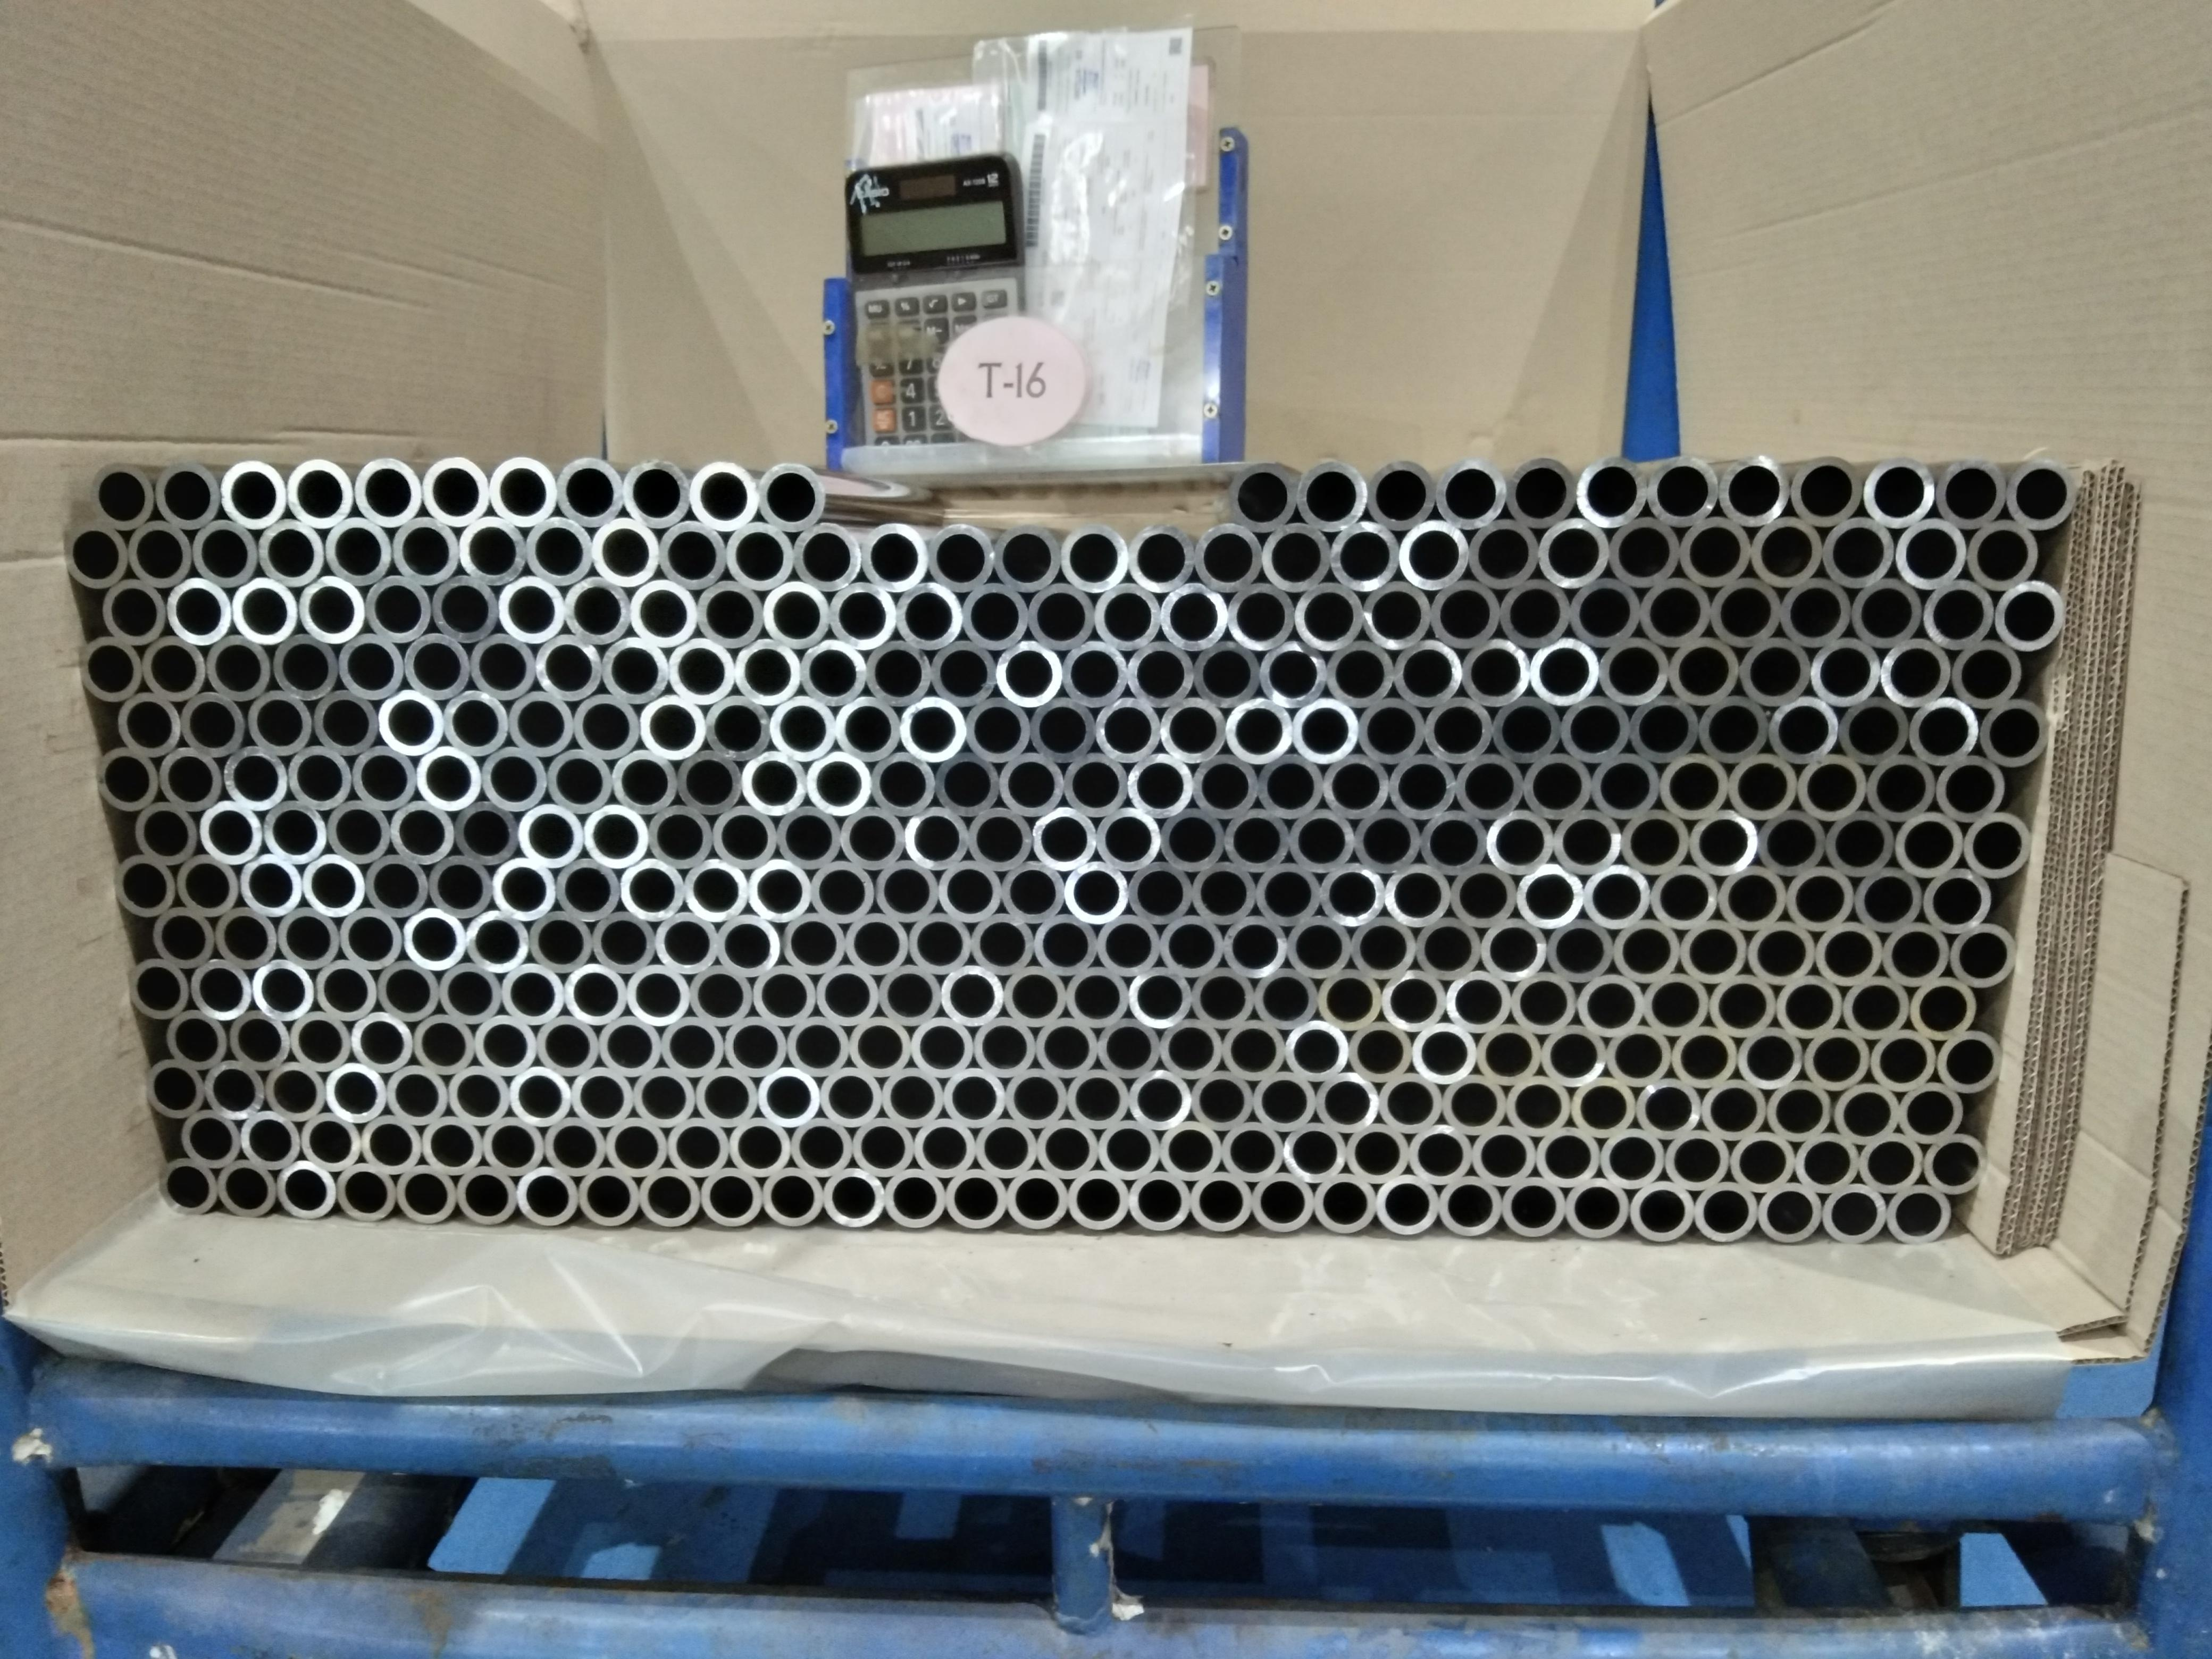pipe: (1749, 514, 1824, 591), (1820, 514, 1895, 591), (1860, 453, 1935, 530), (1893, 514, 1966, 592), (1965, 514, 2038, 592), (1848, 575, 1923, 650), (1921, 577, 1996, 652), (1787, 453, 1862, 528), (1933, 455, 2006, 532), (1608, 514, 1681, 589), (1677, 514, 1750, 589), (1637, 575, 1710, 650), (1498, 575, 1571, 650), (1568, 575, 1641, 650), (1778, 575, 1851, 650), (1503, 455, 1576, 530), (1364, 457, 1437, 532), (1329, 519, 1402, 592), (1709, 575, 1782, 648), (1597, 634, 1670, 708), (1667, 634, 1740, 708), (1738, 634, 1811, 708), (1879, 636, 1952, 709), (1949, 638, 2022, 711), (1646, 455, 1719, 528), (1716, 455, 1789, 528), (1467, 516, 1538, 591), (1538, 518, 1613, 589), (657, 518, 728, 592), (991, 519, 1062, 594), (1430, 577, 1501, 652), (1576, 455, 1648, 530), (2006, 455, 2078, 530), (1294, 458, 1366, 533), (1399, 516, 1468, 592), (1993, 577, 2062, 653), (1228, 457, 1298, 533), (1360, 579, 1432, 652), (1292, 579, 1364, 652), (1529, 634, 1601, 708), (1460, 636, 1531, 709), (1435, 457, 1507, 530), (1261, 519, 1331, 594), (219, 455, 287, 532), (87, 458, 155, 535), (1423, 694, 1494, 765), (1838, 694, 1909, 765), (725, 519, 794, 592), (792, 519, 862, 592), (1193, 519, 1263, 592), (1127, 521, 1197, 594), (1226, 579, 1296, 652), (1810, 634, 1879, 708), (354, 455, 423, 528), (488, 455, 557, 528), (756, 460, 826, 533), (590, 514, 658, 589), (421, 453, 489, 528), (556, 455, 624, 530), (230, 575, 300, 647), (827, 580, 897, 652), (894, 580, 963, 652), (1158, 580, 1228, 652), (667, 634, 737, 706), (1191, 638, 1261, 709), (1324, 638, 1393, 709), (1698, 694, 1768, 765), (1766, 695, 1838, 765), (1658, 749, 1728, 821), (1935, 753, 2005, 824), (1717, 863, 1787, 934), (1921, 868, 1993, 938), (460, 514, 528, 587), (526, 514, 594, 587), (324, 514, 392, 587), (258, 516, 326, 589), (192, 516, 260, 589), (1059, 521, 1127, 594), (430, 572, 498, 645), (364, 572, 432, 645), (1979, 695, 2047, 769), (622, 457, 690, 530), (695, 579, 765, 648), (533, 633, 603, 702), (864, 638, 934, 708), (704, 694, 773, 763), (1491, 694, 1561, 763), (1561, 694, 1630, 763), (1629, 694, 1698, 763), (1909, 697, 1979, 767), (1590, 751, 1660, 821), (1728, 751, 1797, 821), (1454, 751, 1524, 821), (1620, 807, 1689, 877), (1893, 810, 1963, 880), (1961, 810, 2031, 880), (1785, 864, 1855, 934), (1879, 920, 1949, 990), (1949, 922, 2019, 992), (394, 516, 462, 587), (927, 521, 995, 592), (498, 573, 566, 645), (563, 575, 631, 647), (101, 575, 169, 647), (629, 577, 697, 648), (960, 580, 1028, 652), (1094, 580, 1162, 652), (402, 629, 470, 701), (733, 636, 801, 708), (995, 638, 1062, 709), (1061, 638, 1129, 709), (441, 687, 509, 758), (179, 688, 247, 760), (1524, 749, 1592, 821), (1796, 753, 1867, 821), (1867, 751, 1935, 823), (1756, 809, 1827, 877), (153, 460, 221, 532), (690, 460, 758, 532), (860, 521, 927, 594), (204, 633, 272, 702), (601, 636, 669, 706), (1393, 638, 1461, 708), (312, 688, 380, 758), (571, 690, 639, 760), (768, 694, 838, 762), (1388, 751, 1456, 821), (646, 803, 716, 871), (1486, 807, 1554, 877), (1689, 807, 1757, 877), (1552, 809, 1622, 877), (1825, 809, 1893, 878), (1677, 917, 1747, 985), (127, 518, 193, 589), (298, 573, 364, 645), (763, 579, 829, 650), (1028, 580, 1094, 652), (272, 631, 338, 702), (799, 636, 866, 708), (1127, 638, 1193, 709), (1259, 640, 1325, 711), (287, 457, 354, 528), (1029, 695, 1097, 763), (1357, 695, 1425, 763), (610, 748, 678, 816), (1515, 863, 1583, 931), (1649, 863, 1717, 931), (1853, 866, 1921, 934), (1747, 918, 1815, 986), (139, 633, 206, 702), (930, 638, 996, 708), (507, 688, 573, 758), (834, 694, 900, 763), (219, 744, 289, 810), (545, 746, 611, 816), (1258, 751, 1324, 821), (132, 798, 199, 868), (517, 800, 583, 870), (1353, 807, 1420, 877), (1420, 809, 1489, 875), (1285, 915, 1355, 981), (1813, 920, 1883, 986), (1709, 972, 1778, 1039), (1911, 974, 1977, 1044), (1803, 1026, 1872, 1093), (338, 633, 404, 701), (470, 633, 536, 701), (637, 694, 705, 760), (900, 695, 967, 763), (1160, 695, 1226, 763), (1291, 695, 1357, 763), (416, 744, 482, 812), (481, 746, 547, 814), (805, 749, 871, 817), (869, 749, 935, 817), (934, 749, 1000, 817), (1062, 751, 1129, 819), (1127, 751, 1193, 819), (1191, 751, 1258, 819), (1324, 751, 1390, 819), (261, 798, 327, 866), (388, 798, 455, 866), (1223, 807, 1291, 873), (1254, 859, 1320, 927), (1449, 863, 1517, 929), (1383, 863, 1451, 929), (1585, 863, 1651, 931), (1547, 917, 1615, 983), (1613, 917, 1679, 985), (1379, 967, 1447, 1033), (1576, 971, 1644, 1037), (1843, 974, 1911, 1040), (1737, 1025, 1804, 1091), (1869, 1028, 1937, 1094), (1766, 1077, 1834, 1143), (1501, 1173, 1568, 1241), (167, 575, 232, 645), (378, 688, 442, 758), (1127, 857, 1191, 927), (1413, 917, 1482, 981), (80, 633, 143, 704), (63, 521, 129, 587), (963, 695, 1029, 762), (1094, 697, 1160, 763), (1226, 697, 1292, 763), (676, 749, 742, 816), (740, 749, 806, 816), (998, 751, 1064, 817), (582, 803, 648, 870), (904, 805, 970, 871), (1031, 805, 1097, 871), (300, 852, 366, 918), (362, 852, 428, 918), (427, 854, 493, 920), (554, 856, 620, 922), (1318, 861, 1385, 927), (212, 904, 279, 971), (401, 906, 467, 972), (528, 908, 594, 974), (780, 911, 846, 978), (188, 957, 254, 1023), (127, 958, 193, 1025), (686, 962, 752, 1028), (1252, 965, 1318, 1032), (1777, 974, 1843, 1040), (909, 1012, 975, 1079), (1937, 1030, 2003, 1096), (1313, 1171, 1379, 1237), (1693, 1178, 1759, 1244), (1756, 1180, 1822, 1246), (1886, 1182, 1952, 1248), (247, 688, 312, 756), (287, 744, 352, 812), (352, 744, 416, 812), (199, 798, 263, 866), (326, 798, 390, 866), (455, 800, 519, 868), (237, 850, 301, 918), (491, 854, 556, 922), (620, 856, 685, 924), (1000, 857, 1064, 925), (1191, 859, 1256, 927), (1317, 965, 1381, 1033), (1444, 969, 1512, 1033), (1508, 971, 1576, 1035), (1670, 1026, 1740, 1089), (1568, 1077, 1637, 1140), (158, 746, 223, 812), (840, 805, 906, 870), (1160, 807, 1224, 873), (1289, 807, 1353, 873), (747, 857, 812, 924), (874, 857, 939, 924), (937, 857, 1001, 924), (810, 857, 874, 924), (152, 904, 216, 971), (338, 904, 402, 971), (590, 910, 655, 976), (716, 911, 780, 978), (1033, 911, 1097, 978), (1480, 917, 1547, 981), (312, 958, 376, 1025), (251, 958, 315, 1025), (625, 962, 690, 1028), (815, 962, 880, 1028), (1127, 965, 1193, 1030), (1642, 972, 1709, 1037), (535, 1012, 599, 1079), (1033, 1014, 1099, 1079), (1346, 1019, 1413, 1084), (1606, 1025, 1672, 1089), (1834, 1080, 1898, 1147), (1374, 1171, 1439, 1237), (1437, 1173, 1501, 1239), (1564, 1176, 1629, 1243), (1630, 1180, 1695, 1246), (1822, 1182, 1886, 1248), (376, 957, 439, 1025), (502, 960, 564, 1028), (1540, 1025, 1608, 1087), (1700, 1079, 1770, 1140), (98, 748, 162, 812), (712, 805, 777, 870), (968, 807, 1033, 871), (1096, 807, 1160, 871), (174, 852, 239, 917), (683, 857, 747, 922), (1064, 859, 1129, 924), (275, 906, 340, 971), (907, 911, 972, 976), (1350, 915, 1414, 979), (752, 964, 817, 1028), (1001, 964, 1066, 1028), (1190, 965, 1254, 1030), (411, 1011, 475, 1075), (474, 1011, 538, 1075), (1284, 1019, 1348, 1084), (1475, 1023, 1540, 1087), (1190, 1068, 1254, 1133), (517, 1164, 582, 1229), (881, 1166, 946, 1230), (465, 908, 528, 974), (655, 910, 718, 976), (970, 911, 1033, 978), (878, 962, 941, 1028), (597, 1016, 664, 1079), (1158, 1018, 1224, 1080), (324, 1060, 387, 1126), (385, 1060, 448, 1126), (570, 1065, 636, 1127), (1634, 1077, 1700, 1140), (298, 1110, 361, 1176), (913, 1114, 975, 1180), (974, 1114, 1036, 1180), (1097, 1115, 1160, 1182), (1219, 1119, 1282, 1185), (1284, 1121, 1346, 1187), (1346, 1121, 1409, 1187), (1665, 1127, 1728, 1194), (1731, 1127, 1794, 1194), (1797, 1127, 1860, 1194), (1923, 1129, 1986, 1195), (779, 805, 841, 870), (115, 854, 178, 918), (845, 911, 907, 976), (1097, 913, 1160, 978), (1160, 915, 1224, 978), (941, 964, 1003, 1028), (1064, 965, 1129, 1028), (660, 1014, 725, 1077), (723, 1014, 787, 1077), (848, 1014, 913, 1077), (141, 1056, 204, 1121), (204, 1056, 266, 1121), (263, 1058, 326, 1122), (446, 1065, 510, 1127), (632, 1065, 697, 1127), (695, 1065, 759, 1127), (881, 1065, 944, 1129), (1003, 1066, 1068, 1129), (1252, 1070, 1317, 1133), (1317, 1070, 1379, 1134), (1378, 1072, 1442, 1134), (1900, 1079, 1963, 1143), (179, 1107, 242, 1171), (237, 1107, 300, 1171), (420, 1114, 482, 1178), (543, 1114, 606, 1178), (728, 1114, 791, 1178), (482, 1114, 545, 1178), (606, 1115, 669, 1180), (667, 1115, 730, 1180), (791, 1115, 853, 1180), (852, 1115, 914, 1180), (1160, 1117, 1223, 1182), (1409, 1122, 1472, 1187), (1474, 1122, 1536, 1187), (1534, 1126, 1597, 1190), (1860, 1131, 1923, 1195), (761, 1162, 824, 1227), (578, 1162, 641, 1227), (455, 1162, 517, 1227), (395, 1164, 458, 1229), (822, 1164, 885, 1229), (698, 1166, 763, 1229), (944, 1166, 1008, 1229), (637, 1166, 700, 1230), (1007, 1168, 1069, 1232), (1066, 1168, 1129, 1232), (1129, 1168, 1191, 1232), (1251, 1169, 1313, 1234), (118, 692, 179, 758), (1505, 1075, 1571, 1136), (1036, 1115, 1097, 1182), (1602, 1124, 1663, 1190), (1223, 915, 1285, 978), (439, 962, 502, 1025), (226, 1009, 289, 1072), (287, 1009, 350, 1072), (350, 1009, 413, 1072), (787, 1014, 850, 1077), (974, 1016, 1036, 1079), (1097, 1016, 1160, 1079), (1413, 1021, 1475, 1084), (1066, 1066, 1129, 1129), (1188, 1171, 1251, 1234), (564, 964, 629, 1025), (1127, 1068, 1191, 1129), (1442, 1073, 1507, 1134), (361, 1114, 421, 1178), (273, 1159, 338, 1220), (819, 1068, 885, 1127), (165, 1009, 226, 1072), (1221, 1019, 1284, 1080), (758, 1066, 820, 1127), (155, 1157, 219, 1216), (510, 1066, 571, 1127), (216, 1159, 277, 1220), (336, 1162, 397, 1223), (946, 1066, 1005, 1129)
